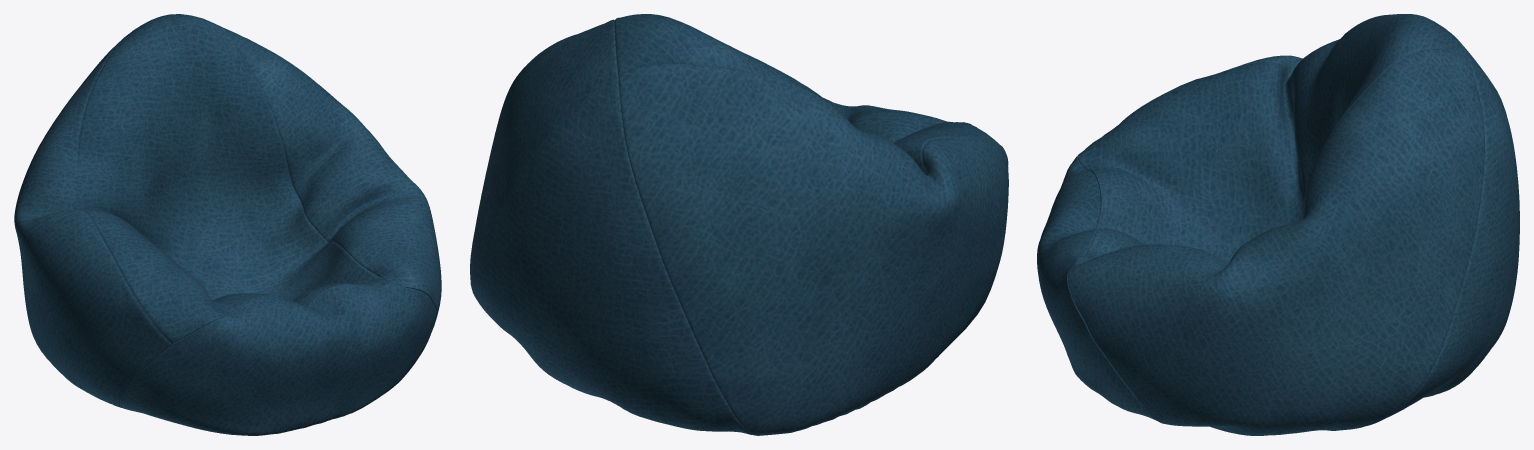
File: blue_bean_bag.glb
The picture shows the model from 3 angles, left to right: view 1: azimuth 30°, elevation 25°; view 2: azimuth 150°, elevation 25°; view 3: azimuth 270°, elevation 25°; orthographic projection. The views are drawn at different scales.
Parts seen in each view (by area): view 1: bean_bag_chair_mesh_n3d; view 2: bean_bag_chair_mesh_n3d; view 3: bean_bag_chair_mesh_n3d.
Boxes of the visible parts, x1,y1,x2,y2 form: bean_bag_chair_mesh_n3d: (14, 14, 441, 435); bean_bag_chair_mesh_n3d: (470, 14, 1008, 435); bean_bag_chair_mesh_n3d: (1037, 14, 1519, 435).
Bounding box in the file's own units: 1.29 × 1 × 1.3.
1 material, 1 textured.
